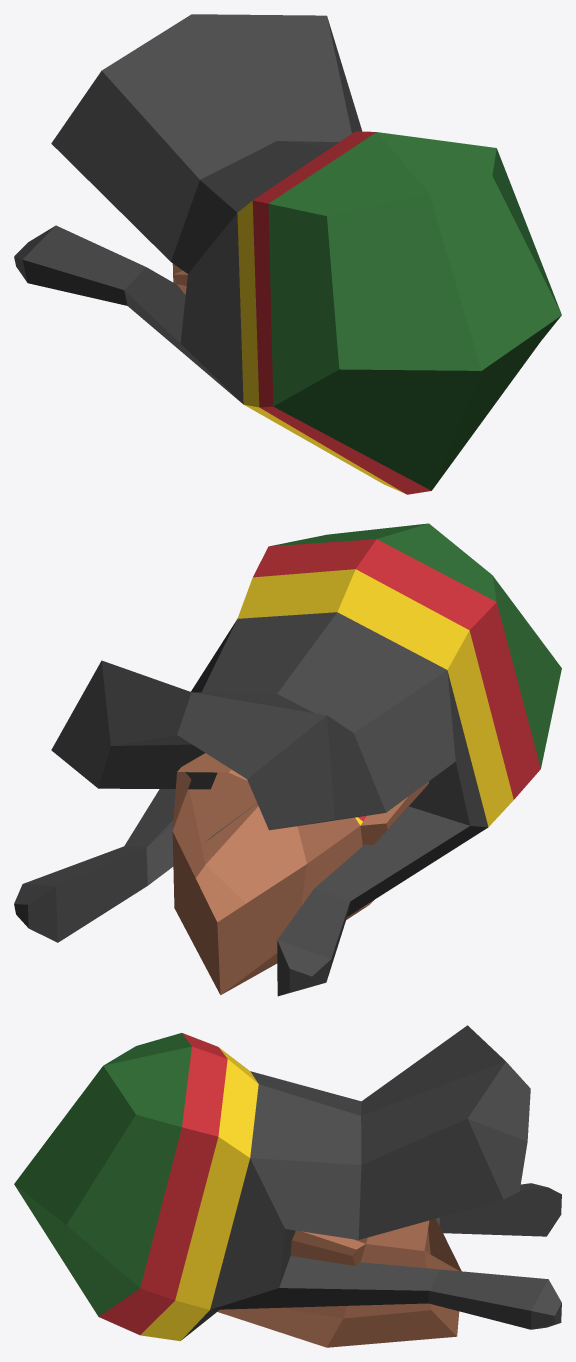
Rendered from head_jamaica.fbx.
3 renders of one model, top to bottom at view 1: azimuth 30°, elevation 25°; view 2: azimuth 150°, elevation 25°; view 3: azimuth 270°, elevation 25°, orthographic. The views are drawn at different scales.
Visible parts, largest first — view 1: man-jamaica; view 2: man-jamaica; view 3: man-jamaica.
Part boxes in pixels (<box>): man-jamaica: <box>14,14,561,494</box>; man-jamaica: <box>14,523,561,996</box>; man-jamaica: <box>14,1025,561,1347</box>.
Bounding box in the file's own units: 259 × 285 × 469.
